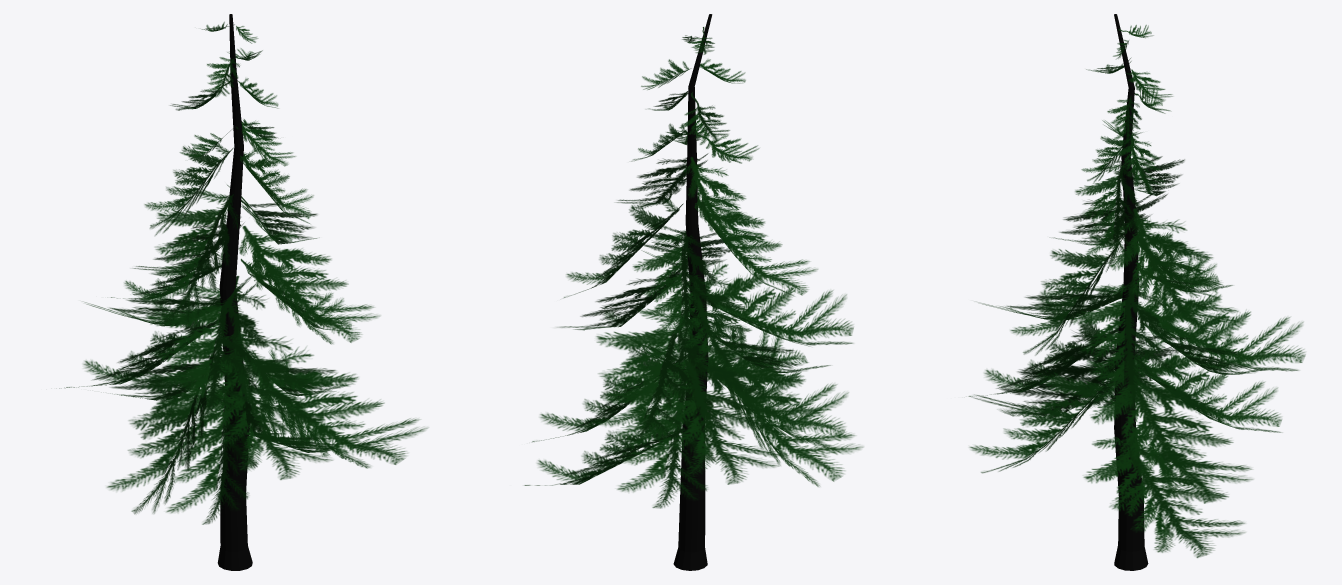
The model's file is pine2.glb.
The picture shows the model from 3 angles, left to right: view 1: azimuth 30°, elevation 25°; view 2: azimuth 150°, elevation 25°; view 3: azimuth 270°, elevation 25°; orthographic projection. The views are drawn at different scales.
Parts seen in each view (by area): view 1: Plane.019, Plane.001, Plane.006, Stem, Plane.012, Plane.013, Plane.024, Plane.009, Plane.020, Plane.010, Plane.025, Plane.005 (+9 smaller); view 2: Plane.020, Plane.025, Plane.013, Stem, Plane.011, Plane.001, Plane.022, Plane.014, Plane.012, Plane.009, Plane.010, Plane.002 (+9 smaller); view 3: Plane.021, Plane.002, Plane.004, Plane.003, Stem, Plane.025, Plane.006, Plane.011, Plane.024, Plane.005, Plane.019, Plane.012 (+11 smaller).
Part boxes in pixels (bbox=[...]): Plane.019: bbox=[179, 327, 334, 479]; Plane.001: bbox=[146, 276, 269, 421]; Plane.006: bbox=[237, 347, 427, 468]; Stem: bbox=[217, 14, 252, 570]; Plane.012: bbox=[150, 368, 263, 524]; Plane.013: bbox=[107, 344, 215, 514]; Plane.024: bbox=[239, 226, 379, 344]; Plane.009: bbox=[140, 189, 240, 323]; Plane.020: bbox=[59, 307, 220, 388]; Plane.010: bbox=[144, 139, 233, 235]; Plane.025: bbox=[85, 276, 256, 326]; Plane.005: bbox=[240, 148, 313, 223]; Plane.020: bbox=[630, 328, 781, 484]; Plane.025: bbox=[594, 305, 709, 441]; Plane.013: bbox=[710, 340, 862, 486]; Stem: bbox=[673, 14, 712, 570]; Plane.011: bbox=[606, 359, 726, 508]; Plane.001: bbox=[688, 260, 853, 346]; Plane.022: bbox=[633, 231, 717, 345]; Plane.014: bbox=[654, 275, 758, 368]; Plane.012: bbox=[706, 333, 848, 451]; Plane.009: bbox=[694, 195, 817, 296]; Plane.010: bbox=[683, 157, 770, 253]; Plane.002: bbox=[524, 408, 683, 485]; Plane.021: bbox=[1090, 359, 1252, 503]; Plane.002: bbox=[1083, 428, 1245, 557]; Plane.004: bbox=[1109, 208, 1239, 340]; Plane.003: bbox=[1070, 274, 1174, 414]; Stem: bbox=[1114, 14, 1148, 570]; Plane.025: bbox=[1136, 286, 1305, 371]; Plane.006: bbox=[969, 359, 1126, 473]; Plane.011: bbox=[1134, 339, 1281, 432]; Plane.024: bbox=[1010, 234, 1123, 355]; Plane.005: bbox=[1075, 163, 1142, 264]; Plane.019: bbox=[968, 315, 1119, 396]; Plane.012: bbox=[972, 349, 1141, 417].
Size of the model in its own units: 12.85 by 20.14 by 13.7.
28 materials, 27 textured.
